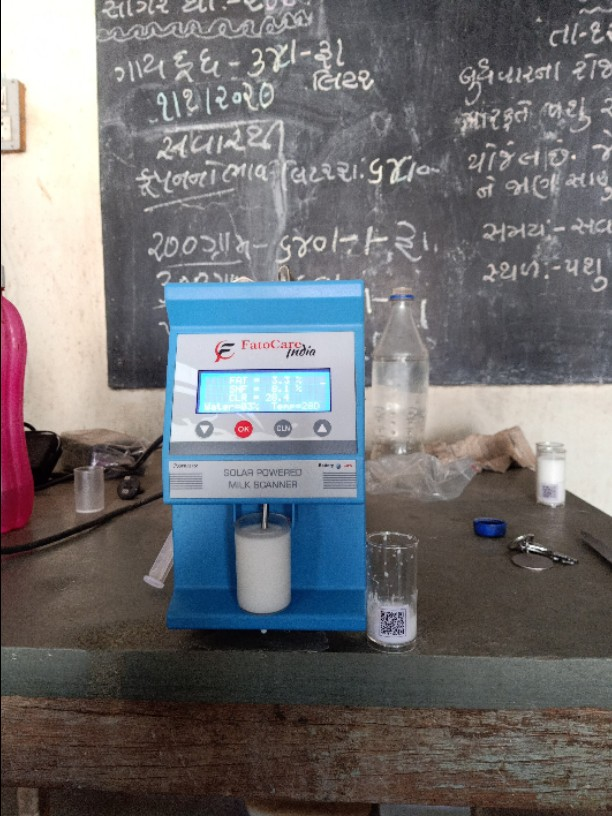lcd: (194, 369, 333, 411)
qr: (377, 605, 414, 640)
